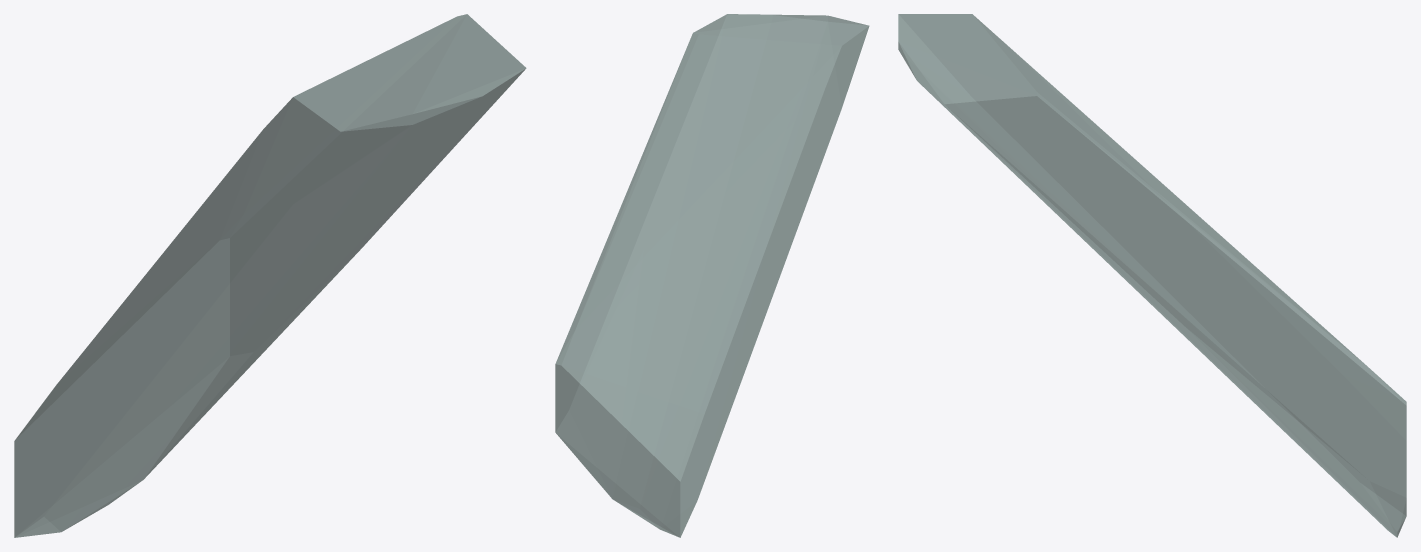
3 renders of one model, left to right at view 1: azimuth 30°, elevation 25°; view 2: azimuth 150°, elevation 25°; view 3: azimuth 270°, elevation 25°, orthographic. The views are drawn at different scales.
Parts seen in each view (by area): view 1: Shape_IndexedFaceSet.010_Shape_IndexedFaceSet.17986; view 2: Shape_IndexedFaceSet.010_Shape_IndexedFaceSet.17986; view 3: Shape_IndexedFaceSet.010_Shape_IndexedFaceSet.17986.
Part boxes in pixels (left/top/right/bottom): Shape_IndexedFaceSet.010_Shape_IndexedFaceSet.17986: left=14, top=14, right=526, bottom=537; Shape_IndexedFaceSet.010_Shape_IndexedFaceSet.17986: left=555, top=14, right=869, bottom=537; Shape_IndexedFaceSet.010_Shape_IndexedFaceSet.17986: left=898, top=14, right=1406, bottom=537.
Size of the model in its own units: 0.1596 by 0.4558 by 0.4179.
